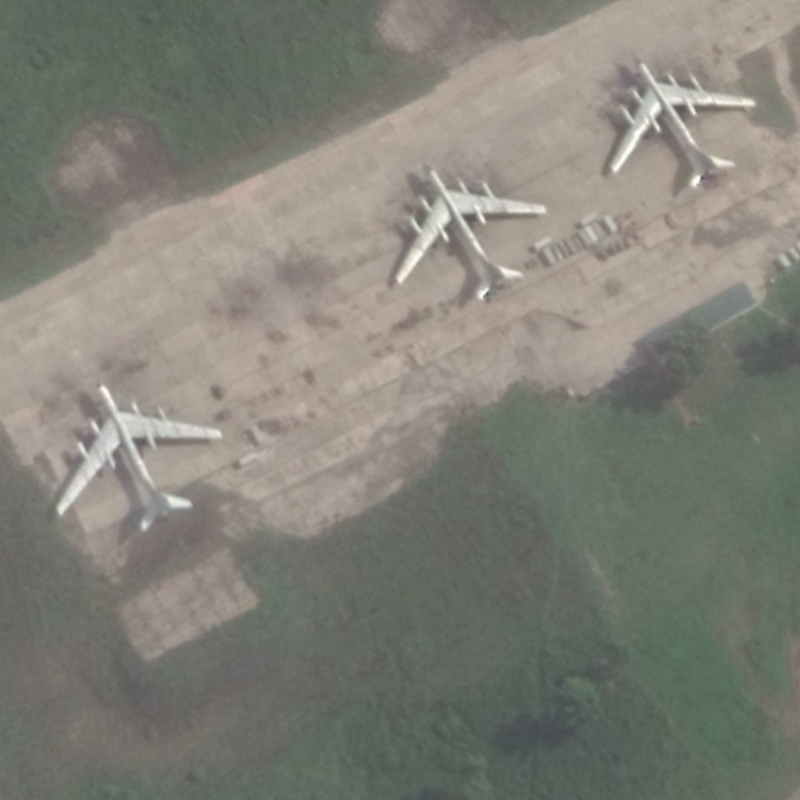A17: (53, 381, 225, 536), (392, 163, 550, 303), (606, 57, 760, 191)
